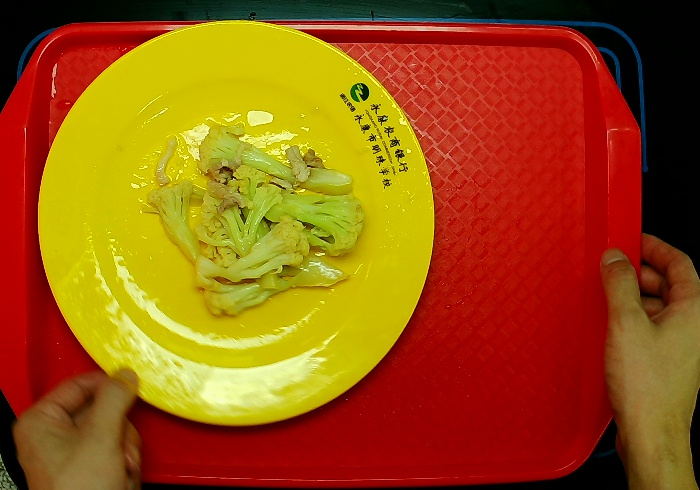YKMZ-Huang_Se_Mian_Pan: (33, 17, 441, 428)
